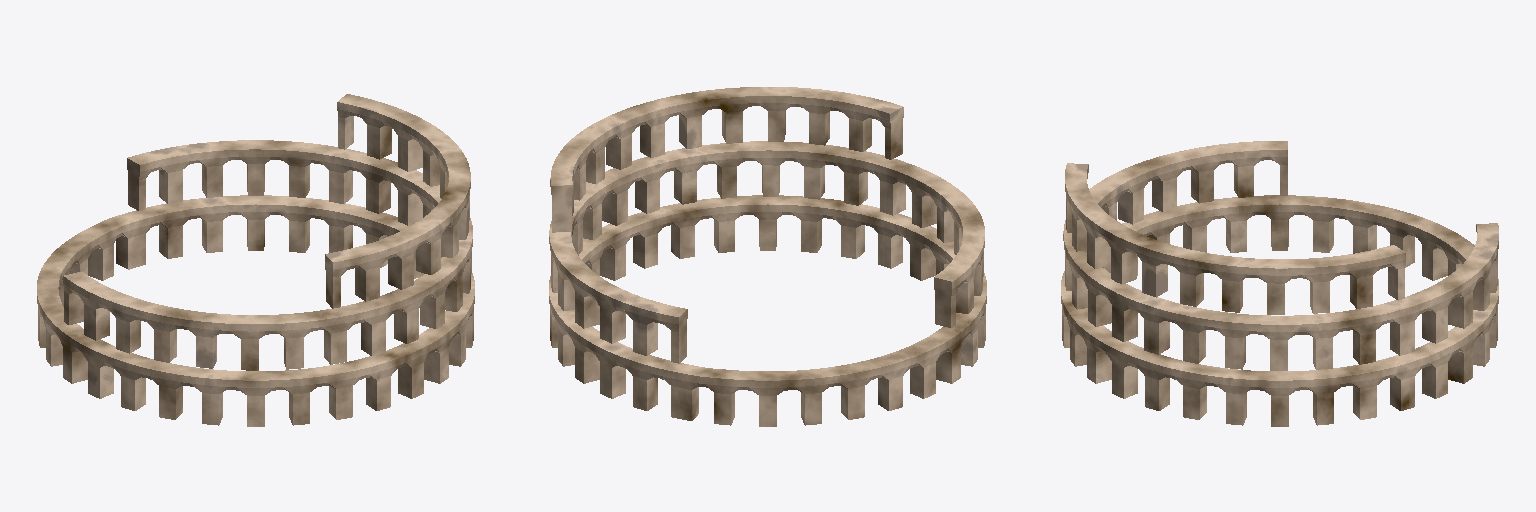
3 views of the same model, side by side, from view 1: azimuth 30°, elevation 25°; view 2: azimuth 150°, elevation 25°; view 3: azimuth 270°, elevation 25° (orthographic).
Visible parts, largest first — view 1: Cube.005_Cube.008; view 2: Cube.005_Cube.008; view 3: Cube.005_Cube.008.
Boxes of the visible parts, box(x1,y1,x2,y2) form: Cube.005_Cube.008: box(37, 94, 474, 426); Cube.005_Cube.008: box(549, 87, 986, 426); Cube.005_Cube.008: box(1061, 141, 1498, 426).
Bounding box in the file's own units: 83.96 × 33.23 × 83.96.
1 materials, 1 textured.